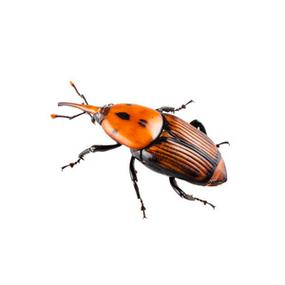Curculionidae: (49, 80, 231, 219)
